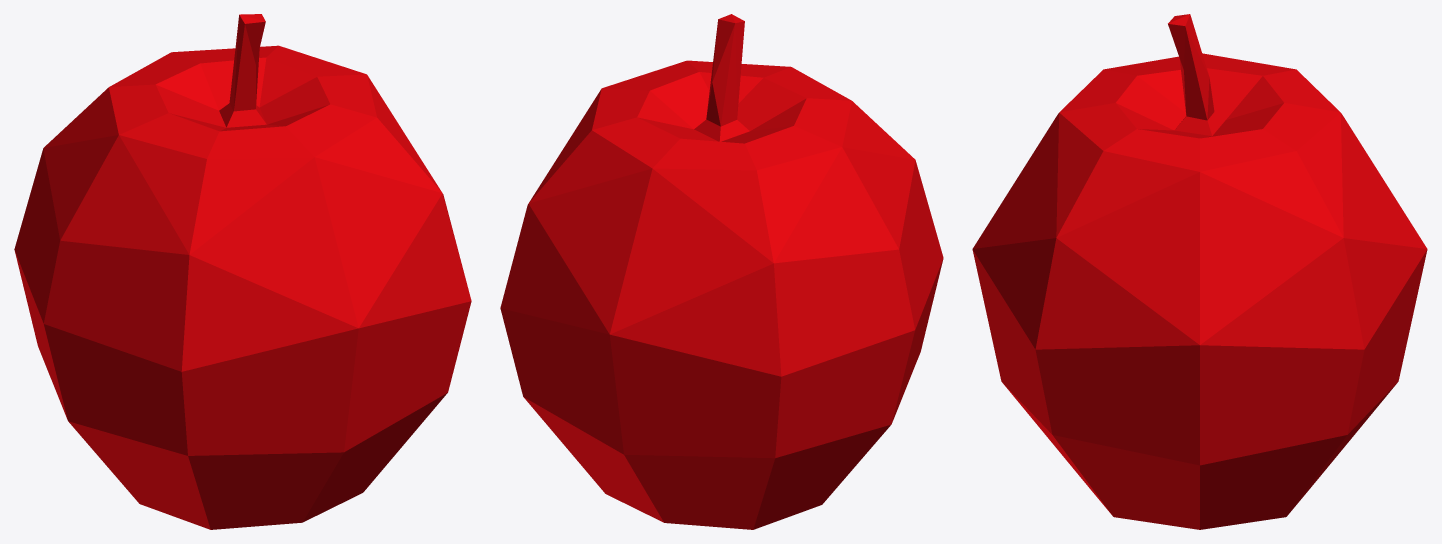
Rendered from Apple.fbx.
3 renders of one model, left to right at view 1: azimuth 30°, elevation 25°; view 2: azimuth 150°, elevation 25°; view 3: azimuth 270°, elevation 25°, orthographic. The views are drawn at different scales.
Visible parts, largest first — view 1: Cube; view 2: Cube; view 3: Cube.
Boxes of the visible parts, box(x1,y1,x2,y2) form: Cube: box(14, 14, 471, 529); Cube: box(500, 14, 943, 529); Cube: box(972, 14, 1427, 529).
Size of the model in its own units: 254 by 286 by 255.
